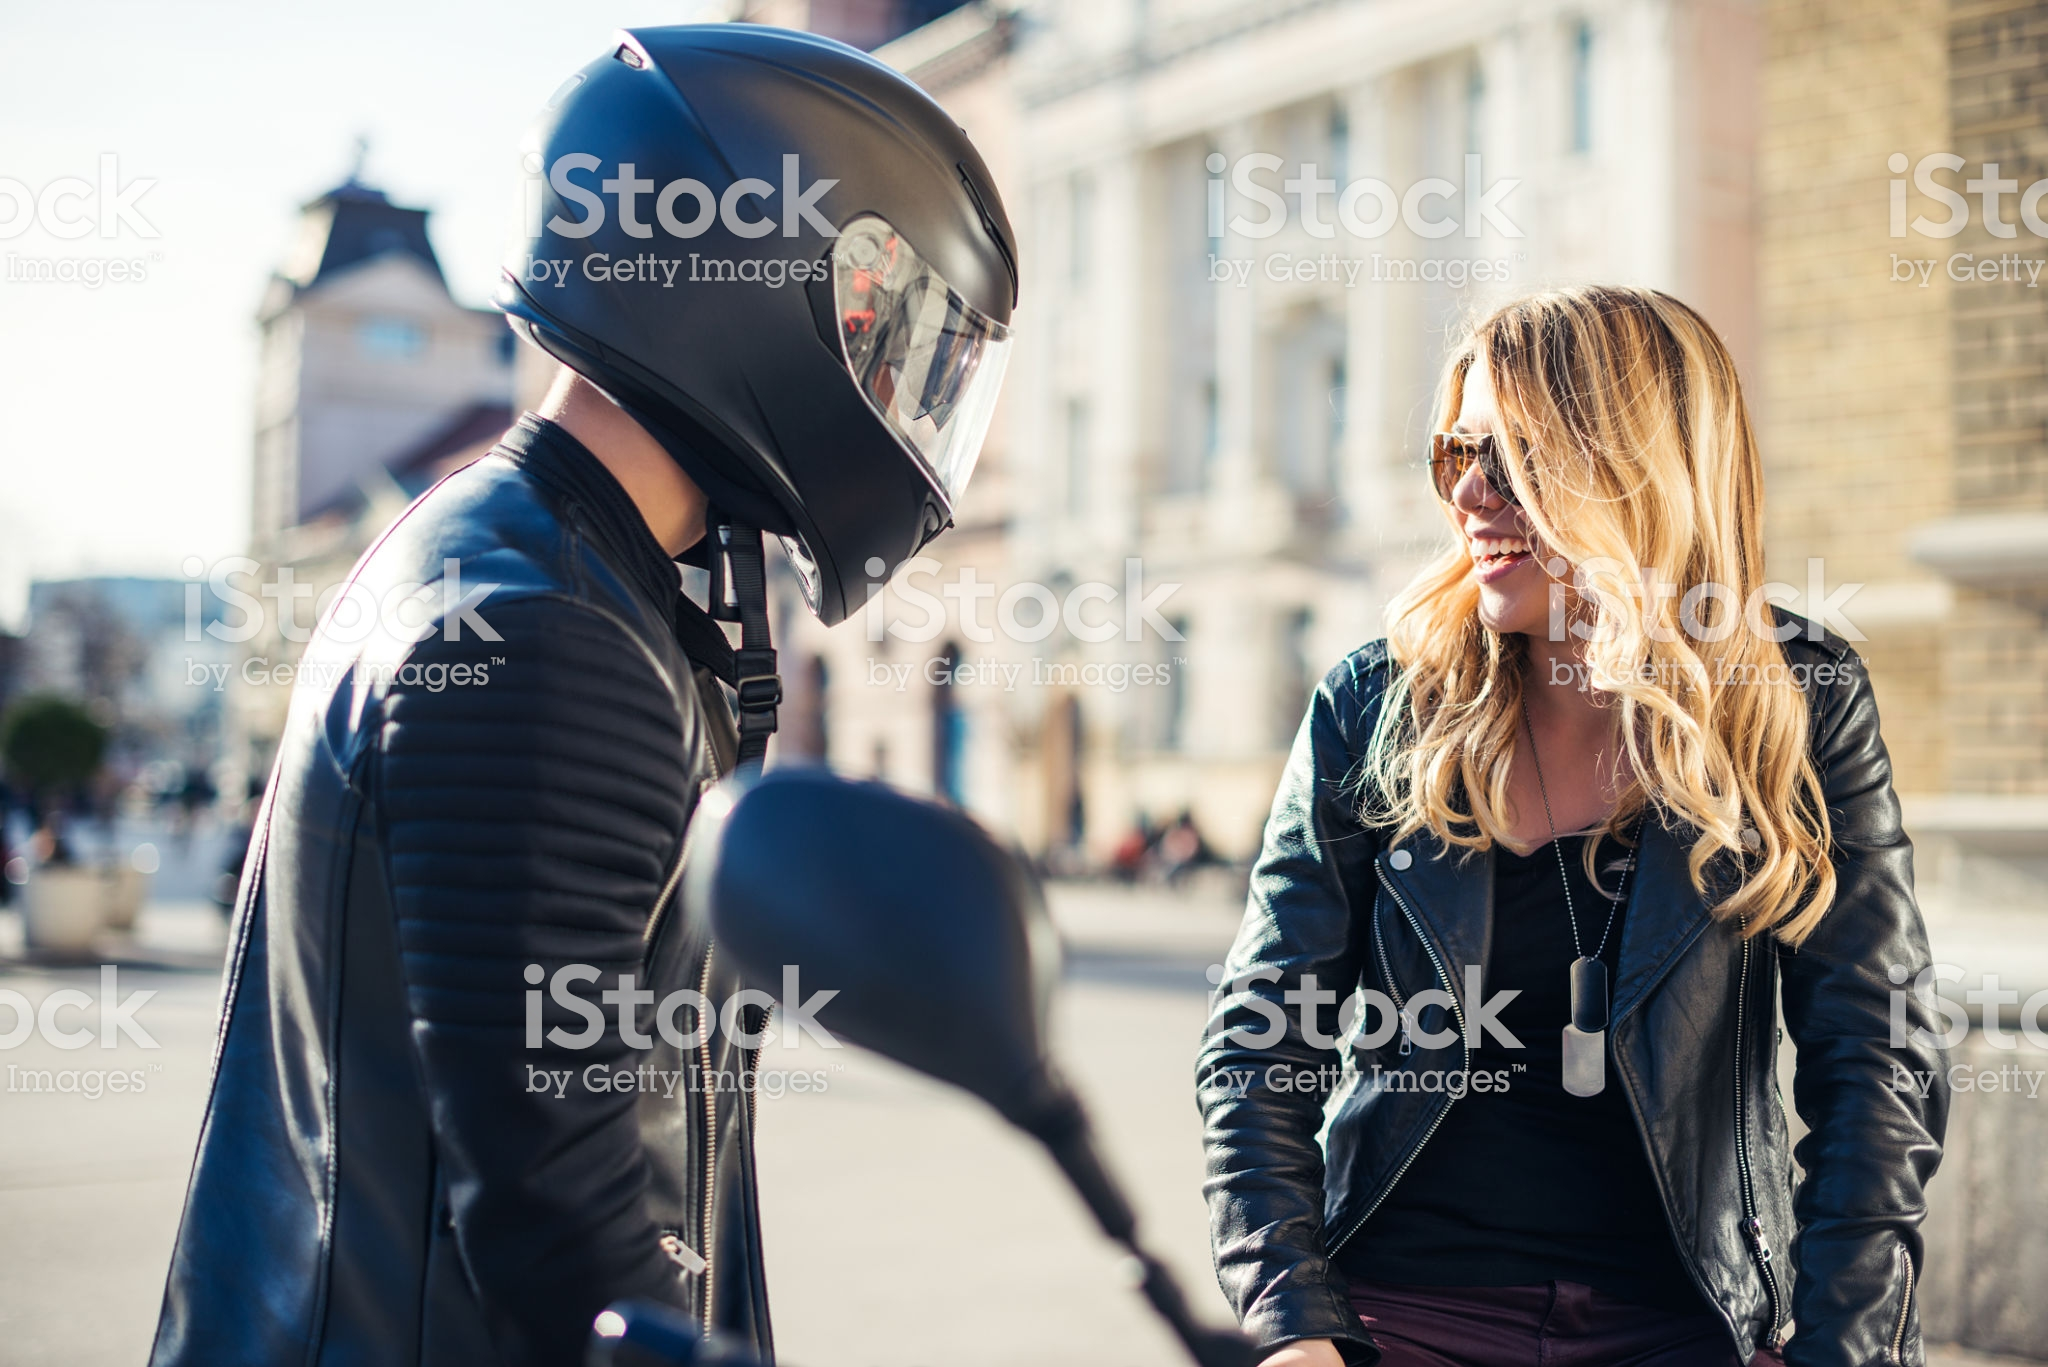helmet: (517, 44, 1038, 632)
